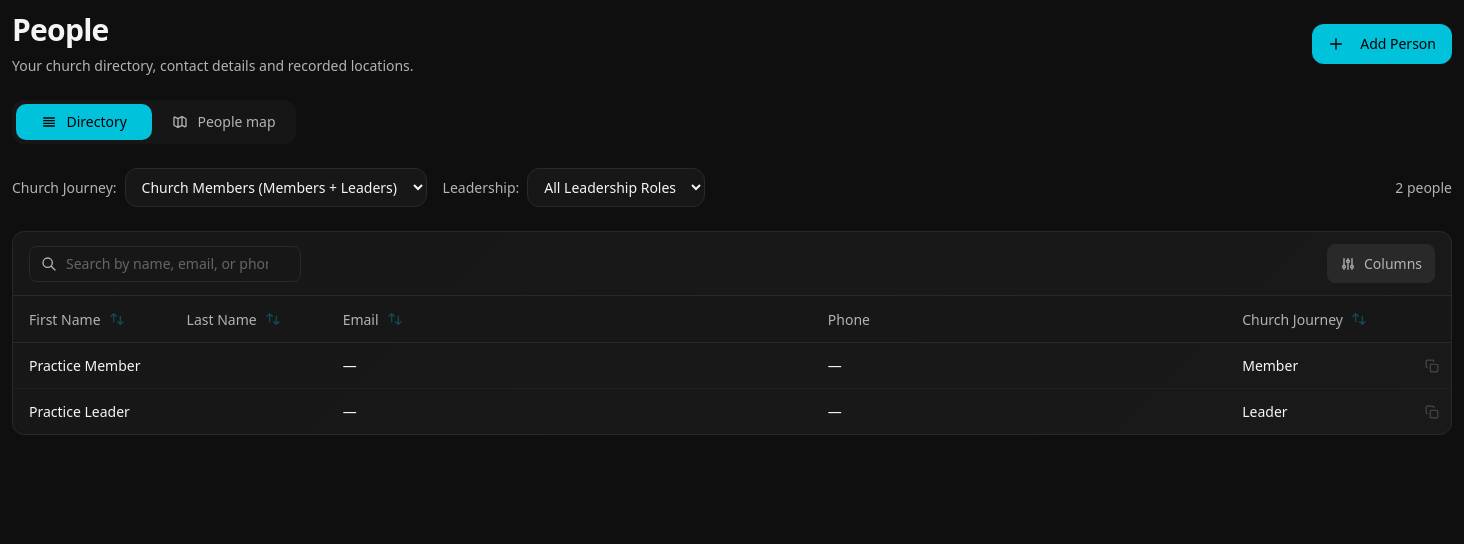
Test: opens with members and leaders, and lets the user choose the wider directory
Expected: the text "Practice Member" is shown, x1=13 y1=342 x2=170 y2=388
Expected: the text "Practice Leader" is shown, x1=13 y1=388 x2=170 y2=434
Select "All Statuses" in the dropdown labelled "Church Journey:" at (276, 188), box x1=125 y1=168 x2=427 y2=207
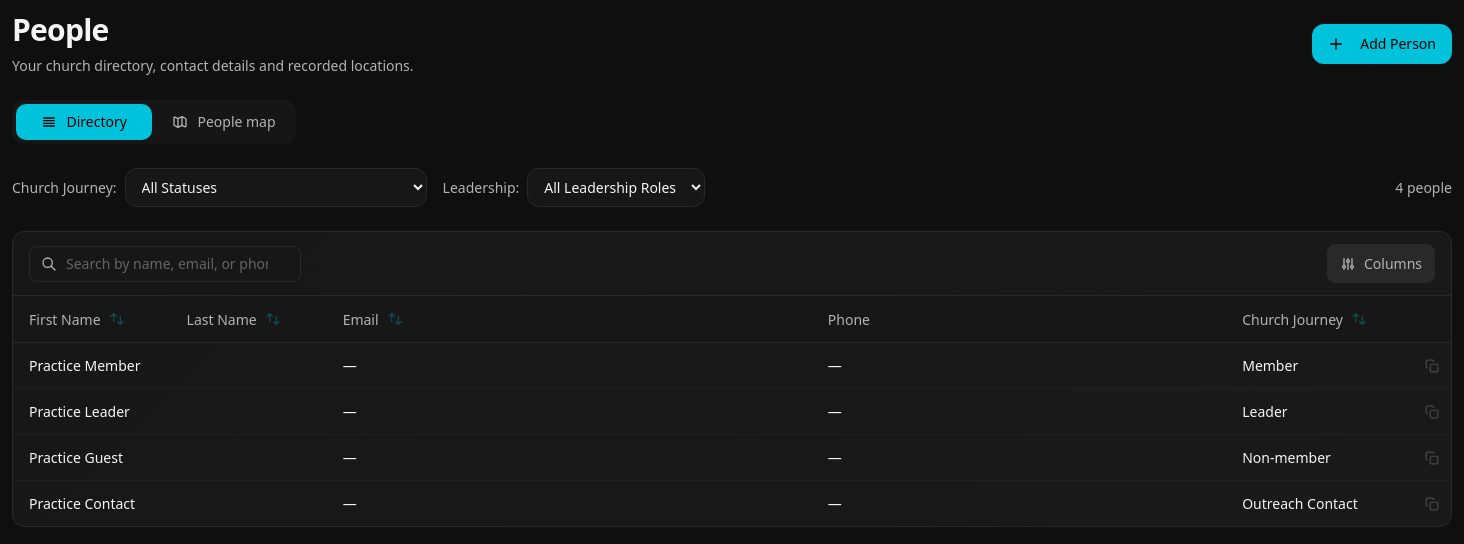
Expected: the text "Practice Guest" is shown, x1=13 y1=434 x2=170 y2=480
Expected: the text "Practice Contact" is shown, x1=13 y1=480 x2=170 y2=526
